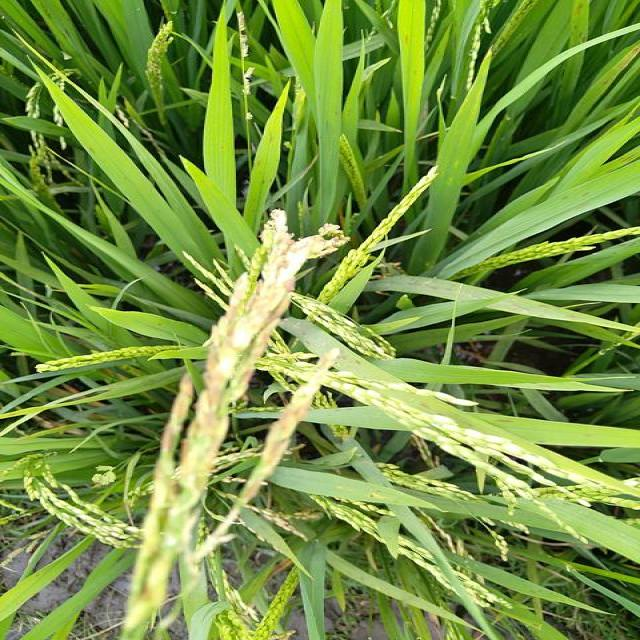Panicle Blight: (149, 211, 349, 507), (240, 349, 340, 505)
